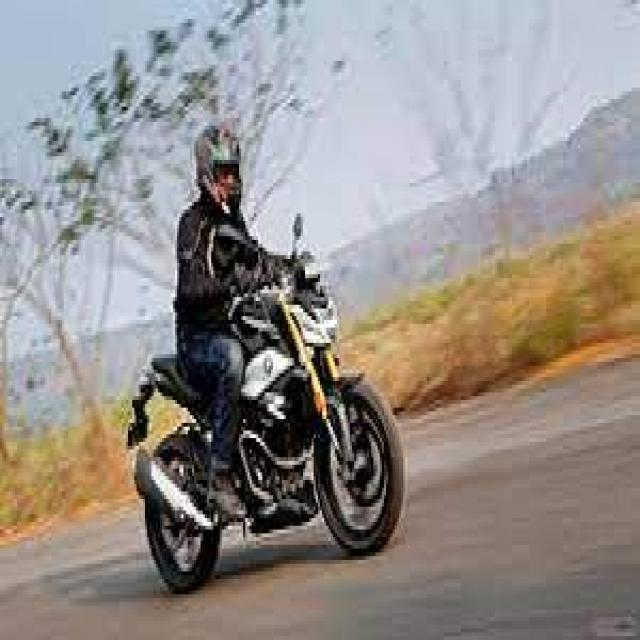Bike: (126, 211, 405, 593)
